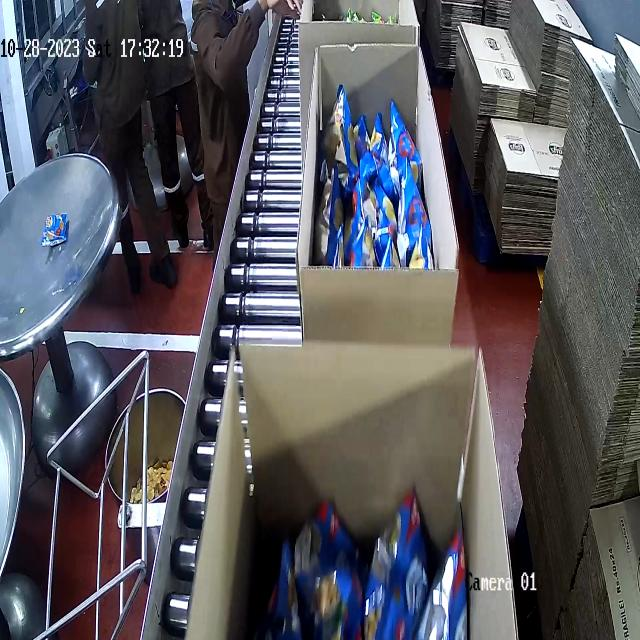PAPRIKA: (306, 92, 426, 263)
